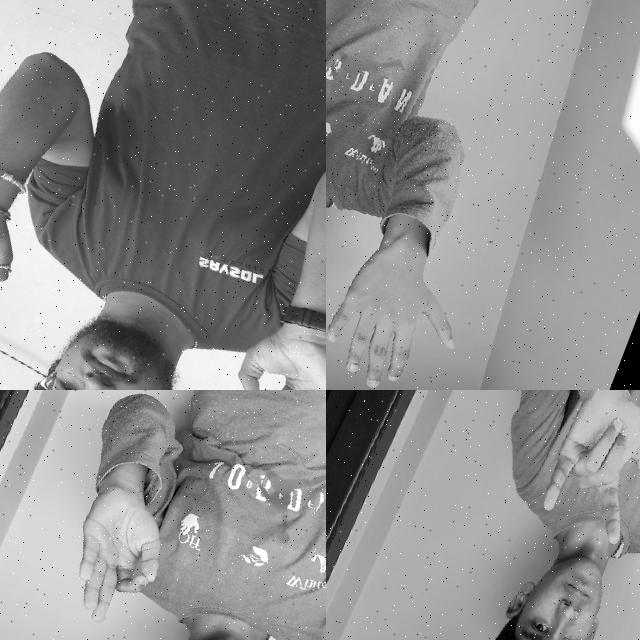Corna: (516, 390, 640, 552)
Moutza: (326, 208, 499, 390)
Okay: (47, 457, 196, 640), (203, 297, 326, 390), (0, 166, 39, 335)
